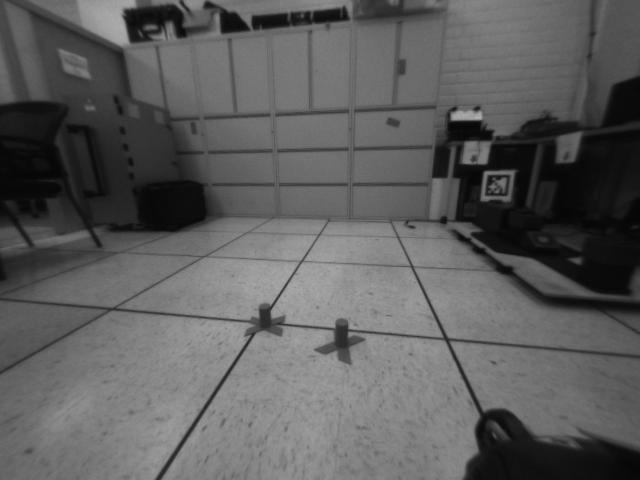X: (313, 317, 366, 364), (244, 301, 285, 337)
